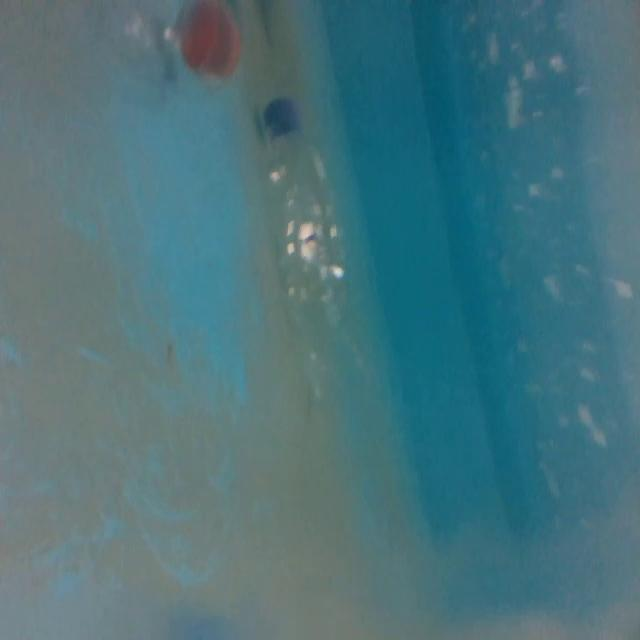plastic bottle: (252, 95, 372, 417)
